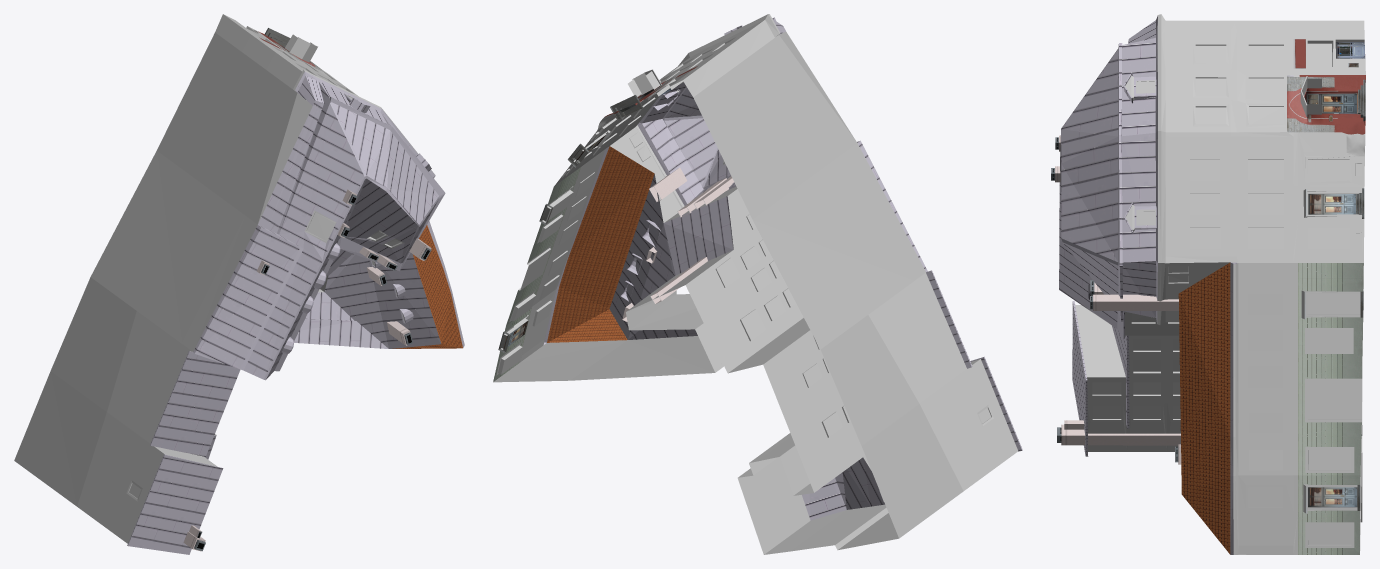
File: Suur_Karja_2.obj
The picture shows the model from 3 angles, left to right: view 1: azimuth 30°, elevation 25°; view 2: azimuth 150°, elevation 25°; view 3: azimuth 270°, elevation 25°; orthographic projection. The views are drawn at different scales.
Parts seen in each view (by area): view 1: Suur_Karja_2; view 2: Suur_Karja_2; view 3: Suur_Karja_2.
Part boxes in pixels (x1,y1,x2,y2): Suur_Karja_2: [14, 14, 464, 554]; Suur_Karja_2: [493, 14, 1022, 554]; Suur_Karja_2: [1051, 14, 1365, 554].
Size of the model in its own units: 37.75 by 40.18 by 20.65.
